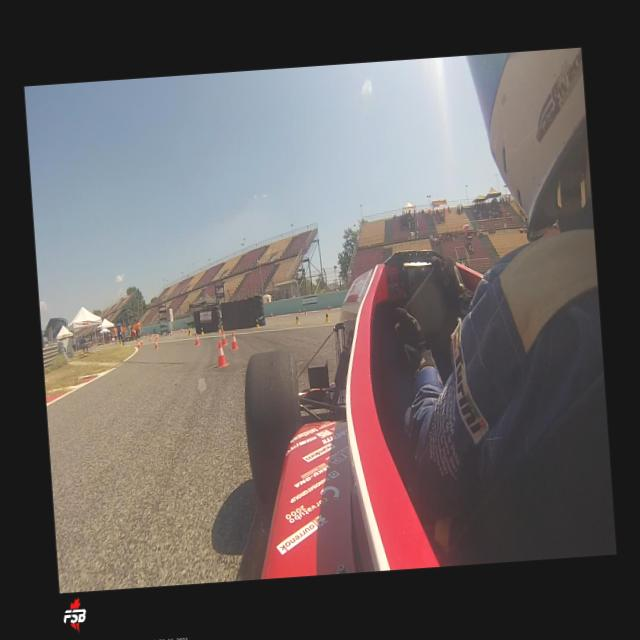orange_cone: (215, 340, 228, 368), (229, 331, 238, 350), (220, 329, 227, 345), (194, 332, 199, 344), (153, 338, 157, 348), (136, 340, 140, 348), (148, 336, 152, 342), (140, 338, 143, 344), (298, 308, 301, 313), (328, 304, 330, 310), (270, 311, 272, 317)
yellow_cone: (254, 318, 260, 329), (324, 310, 329, 322), (294, 314, 300, 324), (216, 324, 222, 334), (200, 327, 204, 336), (187, 326, 190, 334), (118, 340, 122, 346), (188, 329, 191, 336), (304, 308, 306, 315)
